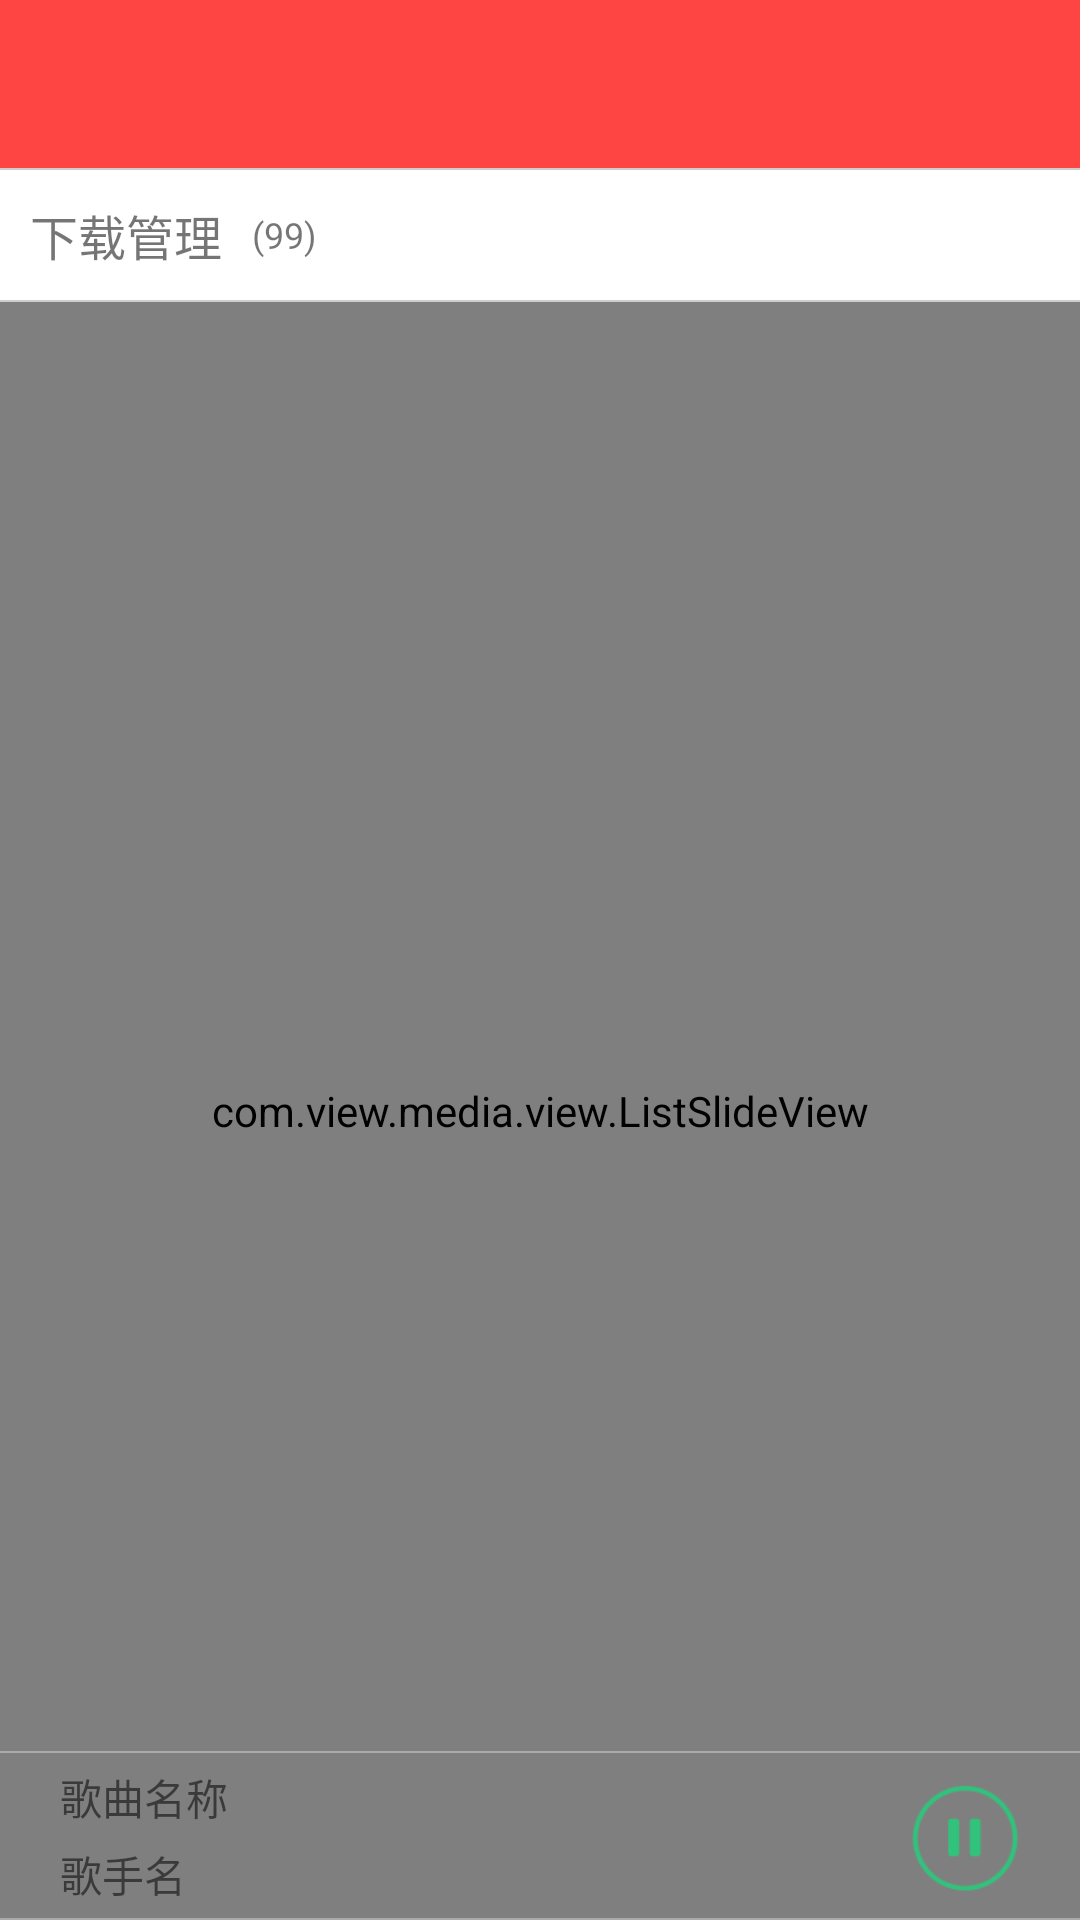

Where to tap for icons on this 1080px×1920px app screen, as point (x, y):
landscape pause: point (965, 1838)
